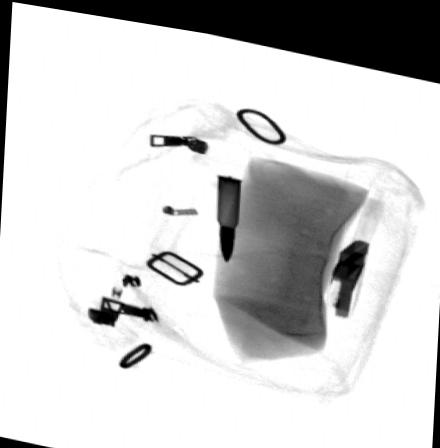Bullet: (216, 165, 242, 256)
